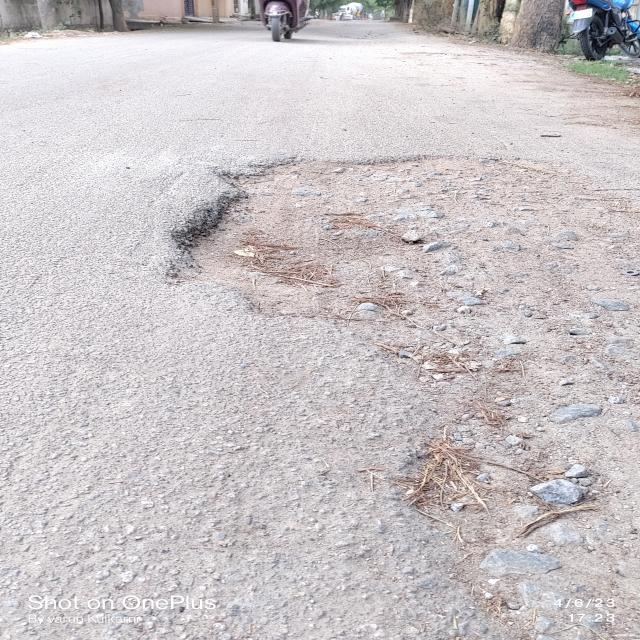potholes: (171, 155, 640, 343)
